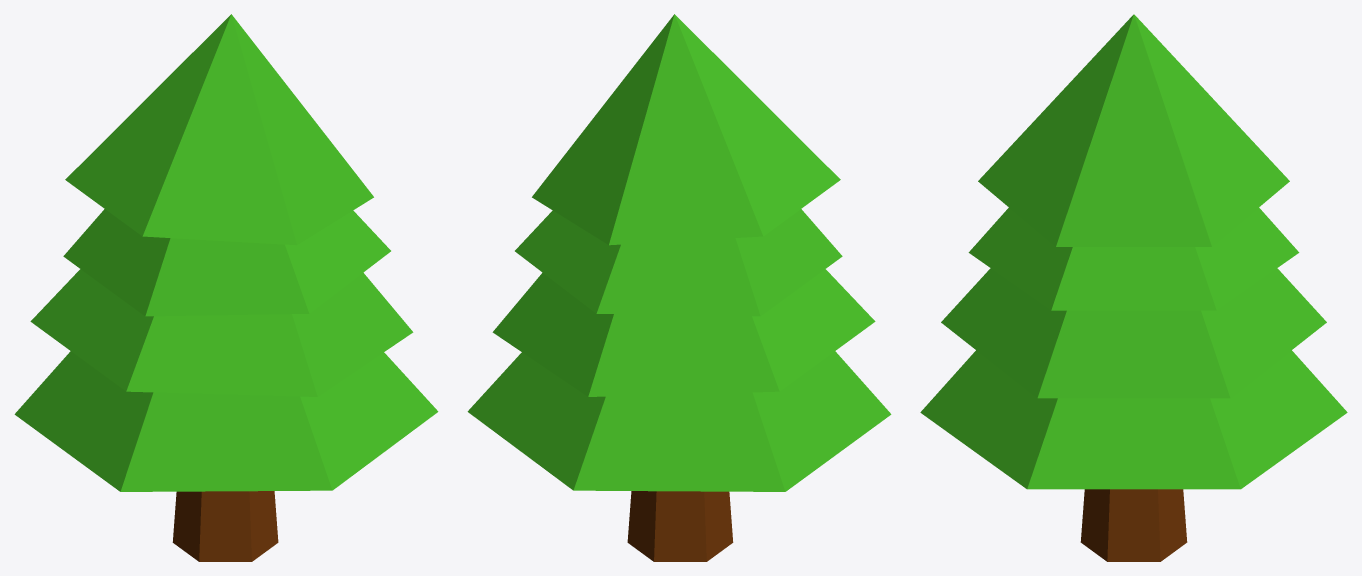
Rendered from Tree.fbx.
3 views of the same model, side by side, from view 1: azimuth 30°, elevation 25°; view 2: azimuth 150°, elevation 25°; view 3: azimuth 270°, elevation 25° (orthographic).
Parts seen in each view (by area): view 1: Tree; view 2: Tree; view 3: Tree.
Boxes of the visible parts, x1,y1,x2,y2 form: Tree: [14, 14, 438, 561]; Tree: [467, 14, 891, 561]; Tree: [920, 14, 1347, 561].
Size of the model in its own units: 515 by 815 by 595.
